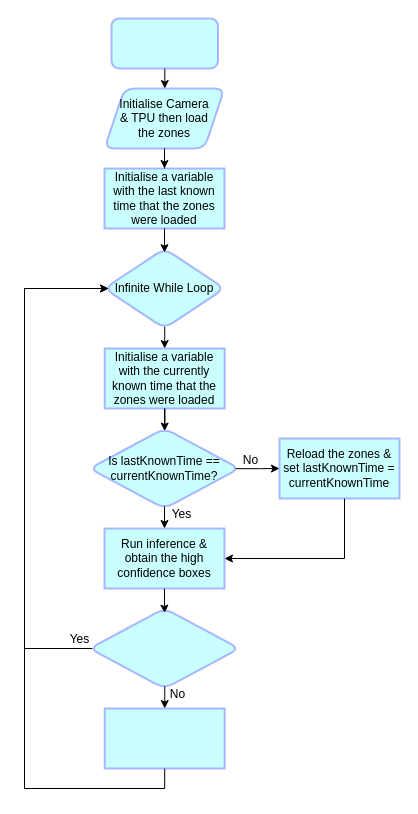
Image size: 418x814. Some labels were removed from this diagram. The shapes that lost their labels are listed below. From the top down, each one's centre as x and y in pixels, then its label:
At point (164, 43): "Start".
At point (164, 648): "Is there 0 high confidence boxes?".
At point (164, 738): "Run zoneLogic, triggering the deterrent accordingly".
